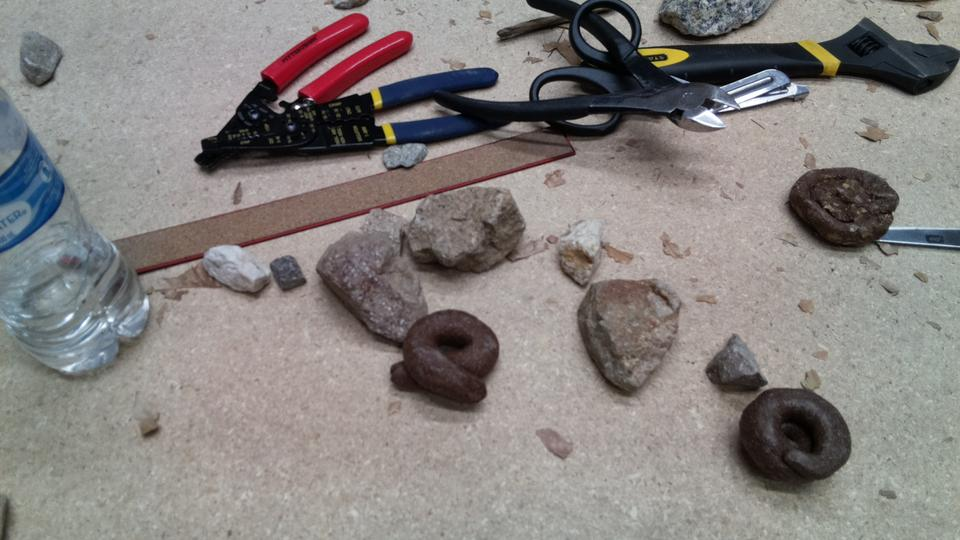poop: (735, 386, 855, 486), (386, 307, 505, 405), (786, 161, 902, 253)
